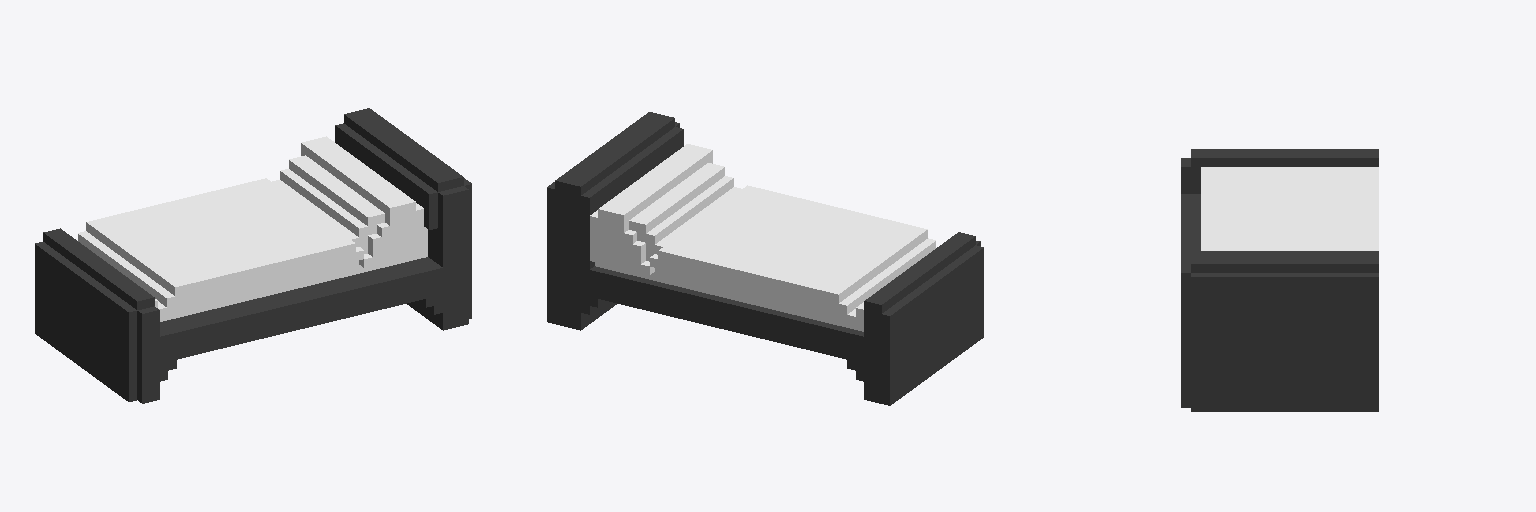
3 renders of one model, left to right at view 1: azimuth 30°, elevation 25°; view 2: azimuth 150°, elevation 25°; view 3: azimuth 270°, elevation 25°, orthographic.
Visible parts, largest first — view 1: Bed; view 2: Bed; view 3: Bed.
Boxes of the visible parts, x1=… form: Bed: x1=35, y1=108, x2=471, y2=403; Bed: x1=547, y1=112, x2=983, y2=405; Bed: x1=1181, y1=149, x2=1378, y2=411.
Bounding box in the file's own units: 4 × 1.6 × 2.
Materials: 1 (1 with a texture image).